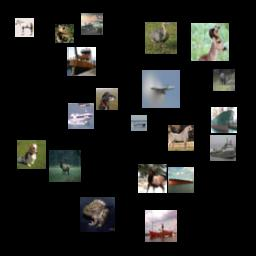airplane: (142, 70, 180, 108), (81, 13, 103, 35)
bird: (145, 22, 177, 54)
deer: (191, 23, 229, 61), (49, 150, 81, 182), (138, 164, 167, 193), (213, 69, 235, 91)
dog: (17, 140, 46, 169), (96, 88, 118, 110)
frog: (80, 197, 115, 232), (55, 24, 74, 43)
ship: (145, 210, 177, 242), (67, 47, 96, 76), (210, 135, 236, 161), (168, 167, 194, 193), (68, 103, 94, 129), (211, 107, 237, 133), (131, 115, 147, 131)
